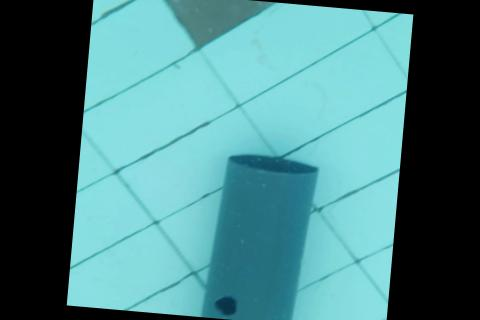kebocoran: (211, 294, 239, 317)
